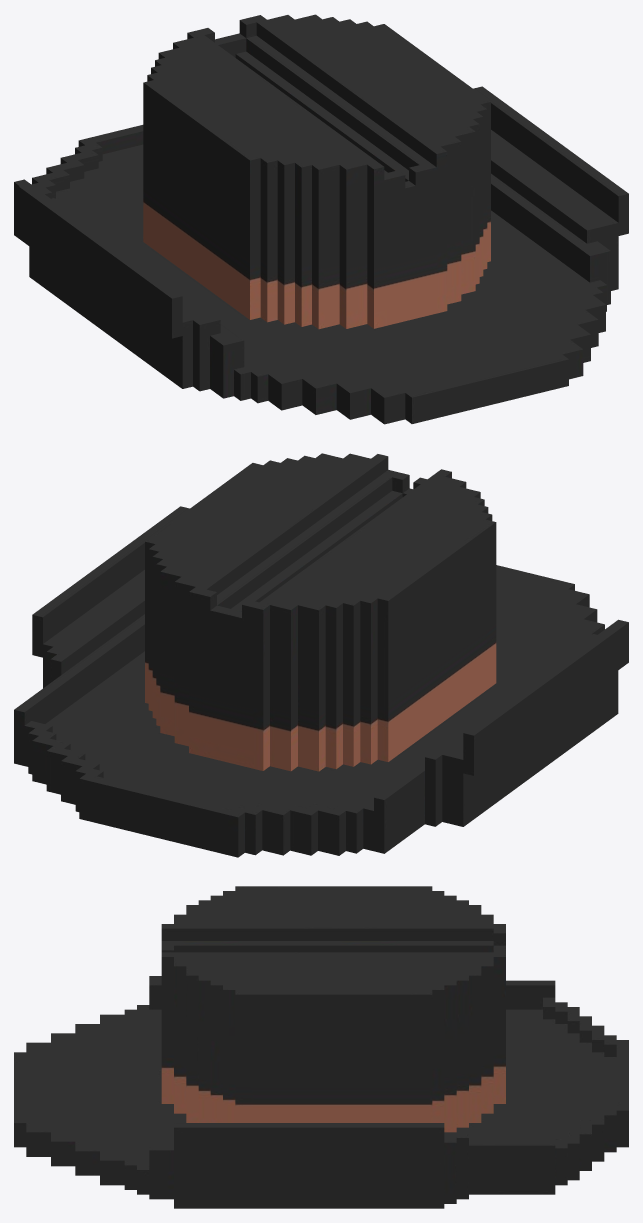
File: cowboy.glb
3 views of the same model, one above another, from view 1: azimuth 30°, elevation 25°; view 2: azimuth 150°, elevation 25°; view 3: azimuth 270°, elevation 25° (orthographic). The views are drawn at different scales.
Parts seen in each view (by area): view 1: cowboy.001; view 2: cowboy.001; view 3: cowboy.001.
Boxes of the visible parts, x1,y1,x2,y2 form: cowboy.001: [14, 14, 628, 424]; cowboy.001: [14, 453, 628, 857]; cowboy.001: [14, 886, 628, 1208].
Bounding box in the file's own units: 4.3 × 1.7 × 5.51.
1 material, 1 textured.
